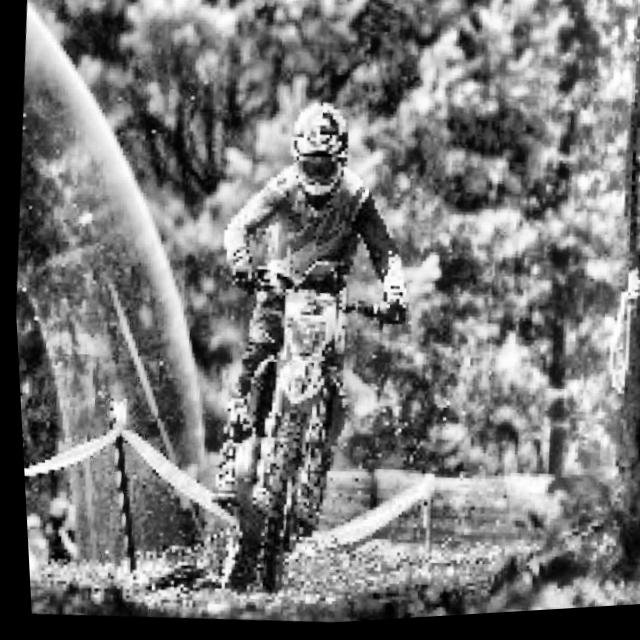motorcycle: (145, 238, 437, 612)
